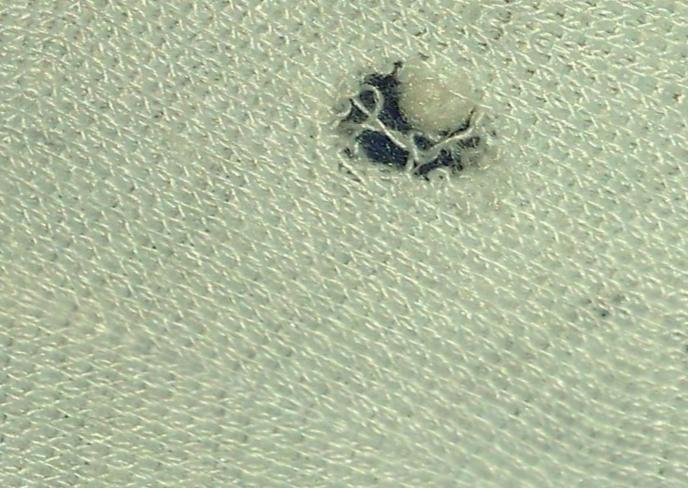hole: (385, 53, 496, 147)
